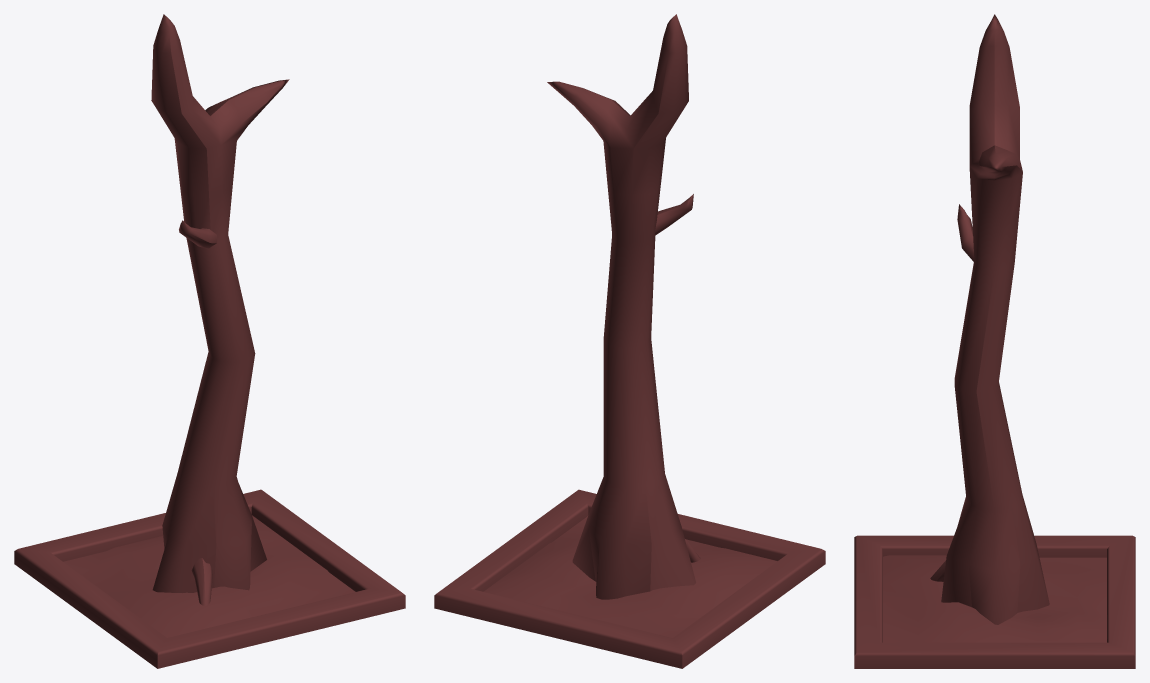
Rendered from callearbol.fbx.
The picture shows the model from 3 angles, left to right: view 1: azimuth 30°, elevation 25°; view 2: azimuth 150°, elevation 25°; view 3: azimuth 270°, elevation 25°; orthographic projection.
Parts seen in each view (by area): view 1: arbol; view 2: arbol; view 3: arbol.
Boxes of the visible parts, x1,y1,x2,y2 form: arbol: (14,14,405,668); arbol: (434,14,825,668); arbol: (854,14,1135,668).
Size of the model in its own units: 0.0294 by 0.0669 by 0.0294.
